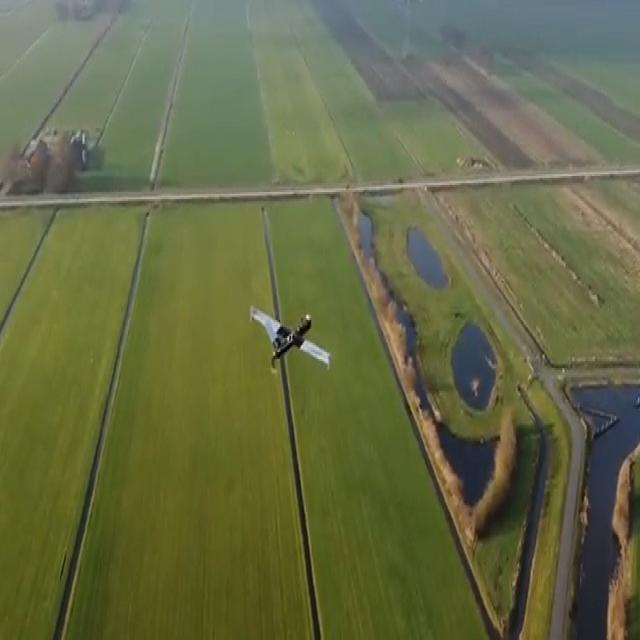drones: (244, 294, 336, 377)
